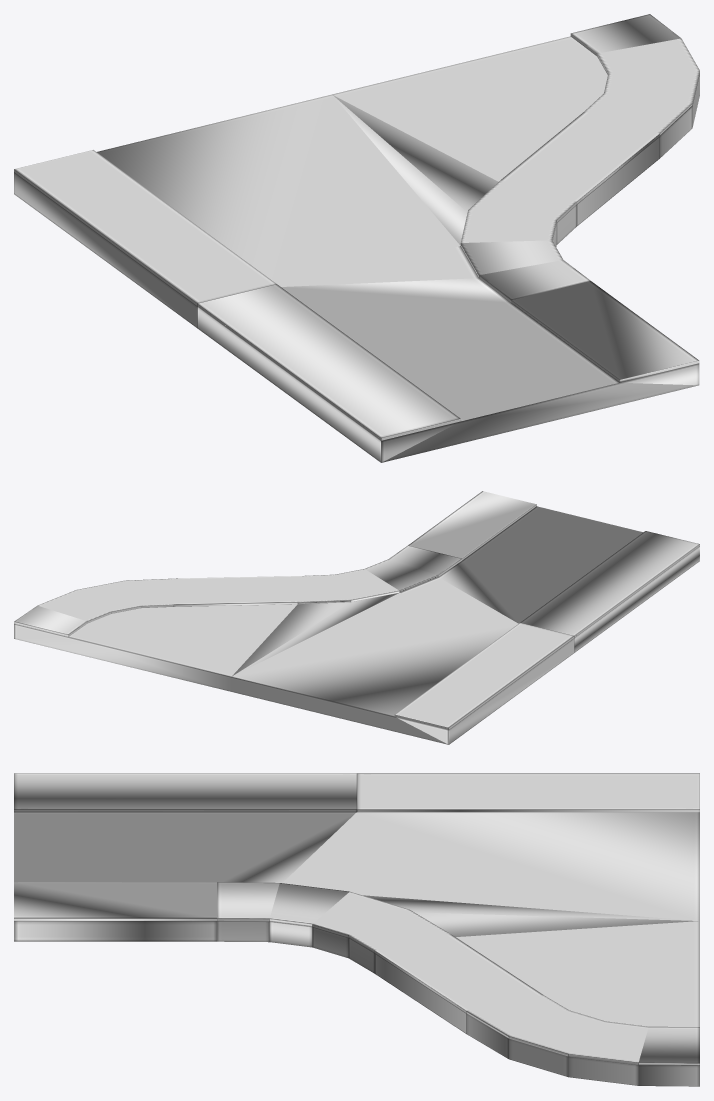
The model's file is Road-16.fbx.
The picture shows the model from 3 angles, top to bottom: view 1: azimuth 30°, elevation 25°; view 2: azimuth 150°, elevation 25°; view 3: azimuth 270°, elevation 25°; orthographic projection. The views are drawn at different scales.
Visible parts, largest first — view 1: Road_16; view 2: Road_16; view 3: Road_16.
Boxes of the visible parts, left/top/right/bottom form: Road_16: left=14, top=14, right=699, bottom=462; Road_16: left=14, top=491, right=699, bottom=744; Road_16: left=14, top=773, right=699, bottom=1086.
Size of the model in its own units: 8 by 0.3 by 8.
